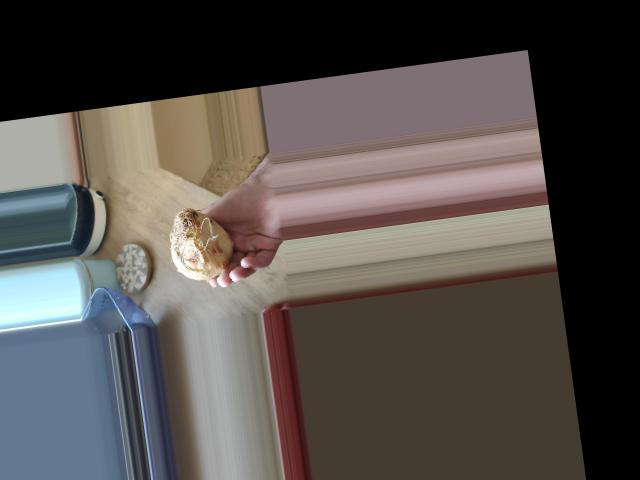onion: (159, 208, 237, 286)
